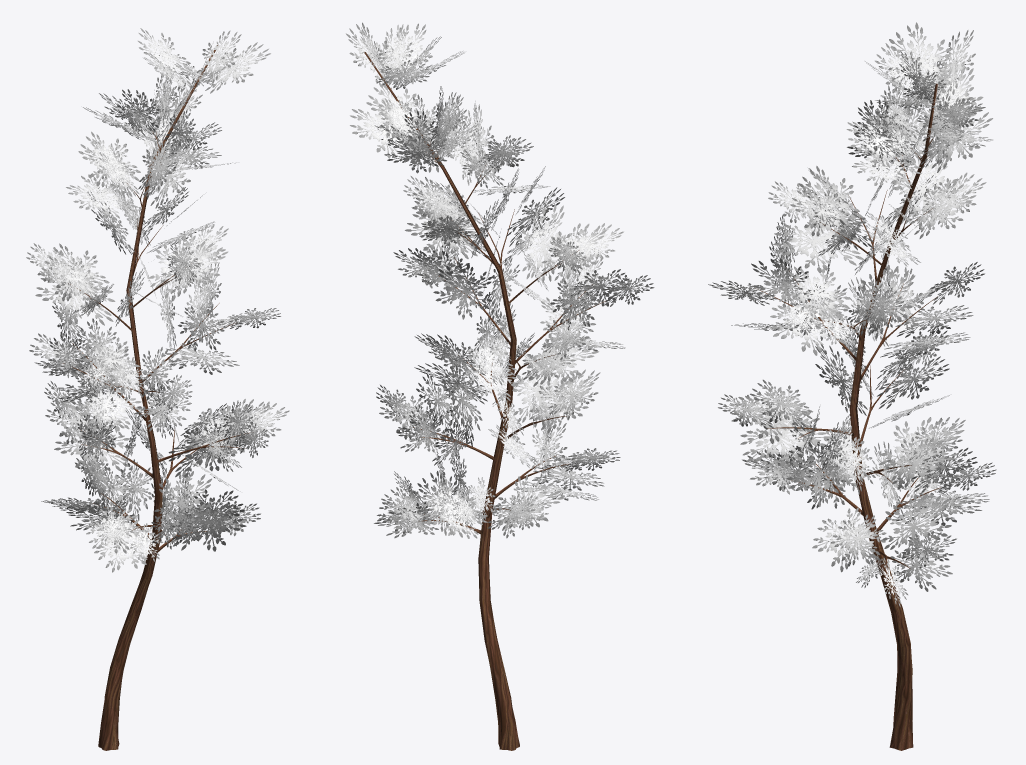
Rendered from Arbol_4.fbx.
3 renders of one model, left to right at view 1: azimuth 30°, elevation 25°; view 2: azimuth 150°, elevation 25°; view 3: azimuth 270°, elevation 25°, orthographic. The views are drawn at different scales.
Parts seen in each view (by area): view 1: Tree_1, Tree_0; view 2: Tree_1, Tree_0; view 3: Tree_1, Tree_0.
Boxes of the visible parts, bbox=[...] form: Tree_1: bbox=[26, 28, 289, 572]; Tree_0: bbox=[63, 45, 250, 750]; Tree_1: bbox=[346, 22, 654, 538]; Tree_0: bbox=[364, 52, 605, 750]; Tree_1: bbox=[708, 22, 996, 607]; Tree_0: bbox=[755, 83, 940, 750].
Size of the model in its own units: 401 by 1006 by 382.
Materials: 2 (2 with a texture image).
